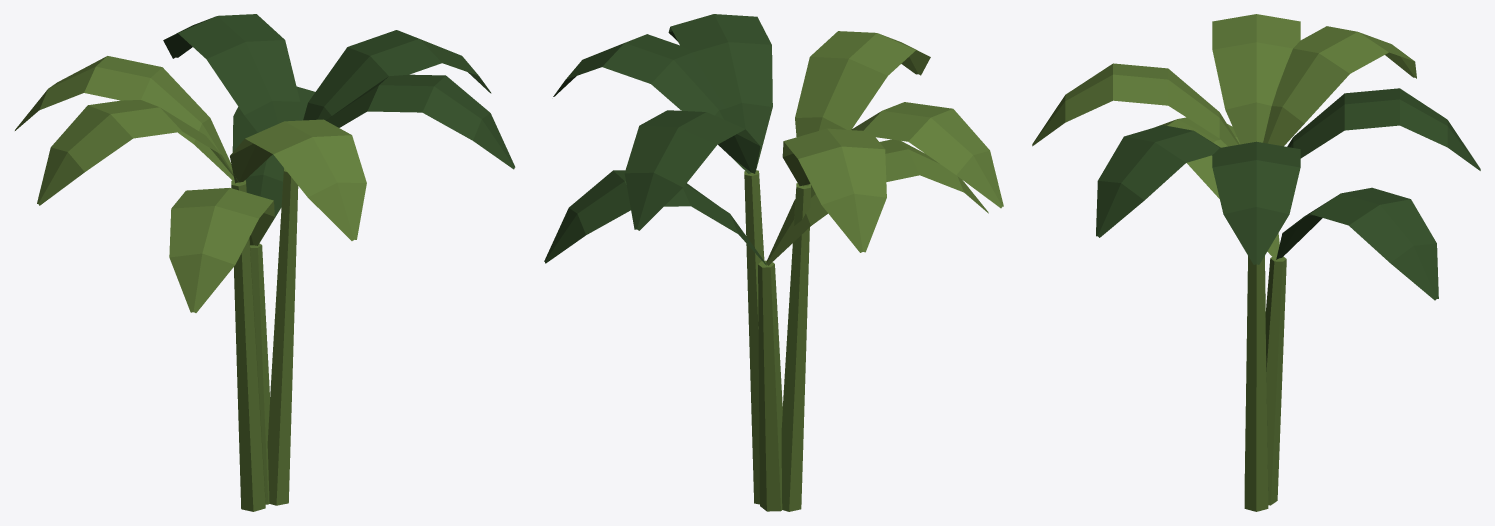
The model's file is banana_clump.glb.
3 renders of one model, left to right at view 1: azimuth 30°, elevation 25°; view 2: azimuth 150°, elevation 25°; view 3: azimuth 270°, elevation 25°, orthographic. The views are drawn at different scales.
Visible parts, largest first — view 1: banana_clump; view 2: banana_clump; view 3: banana_clump.
Part boxes in pixels (x1,y1,x2,y2): banana_clump: (15, 14, 515, 511); banana_clump: (544, 14, 1003, 511); banana_clump: (1032, 14, 1480, 511).
Size of the model in its own units: 2.76 by 2.48 by 2.44.
